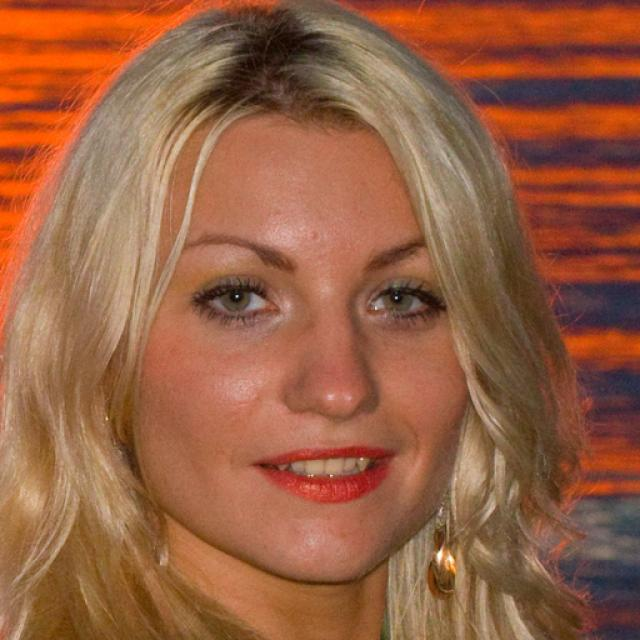Acne: (302, 228, 323, 244)
